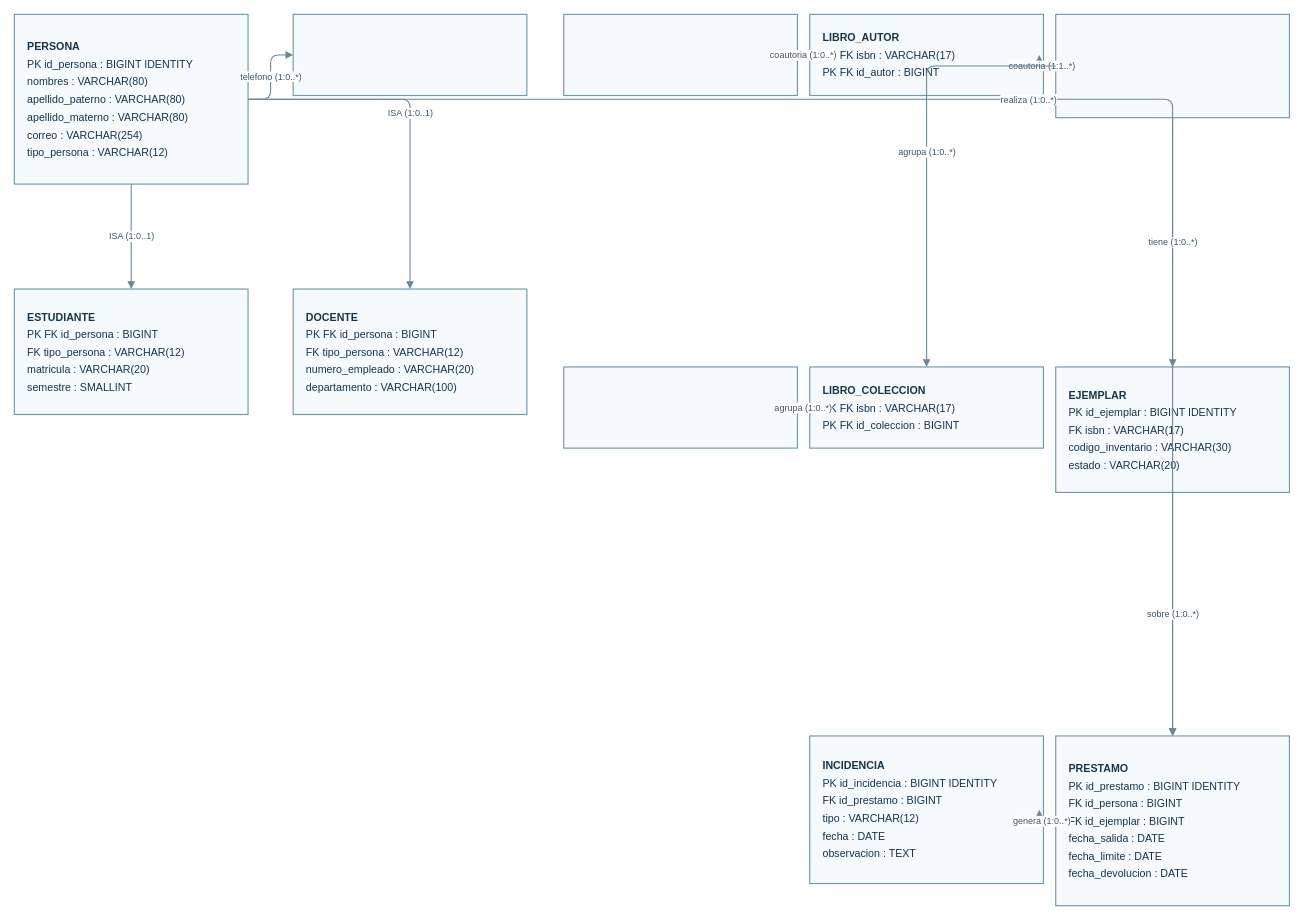
The diagram is 1305 pixels wide and 921 high, and some of its shapes have lost their labels. Here are the shapes that lost their labels. From the top down, the box of each, then its label:
(292, 13, 527, 96): PERSONA_TELEFONO PK FK id_persona : BIGINT PK telefono : VARCHAR(20)
(563, 13, 798, 96): AUTOR PK id_autor : BIGINT IDENTITY nombre : VARCHAR(160)
(1055, 13, 1290, 118): LIBRO PK isbn : VARCHAR(17) titulo : VARCHAR(200) anio_publicacion : SMALLINT
(563, 366, 798, 448): COLECCION PK id_coleccion : BIGINT IDENTITY nombre : VARCHAR(100)
